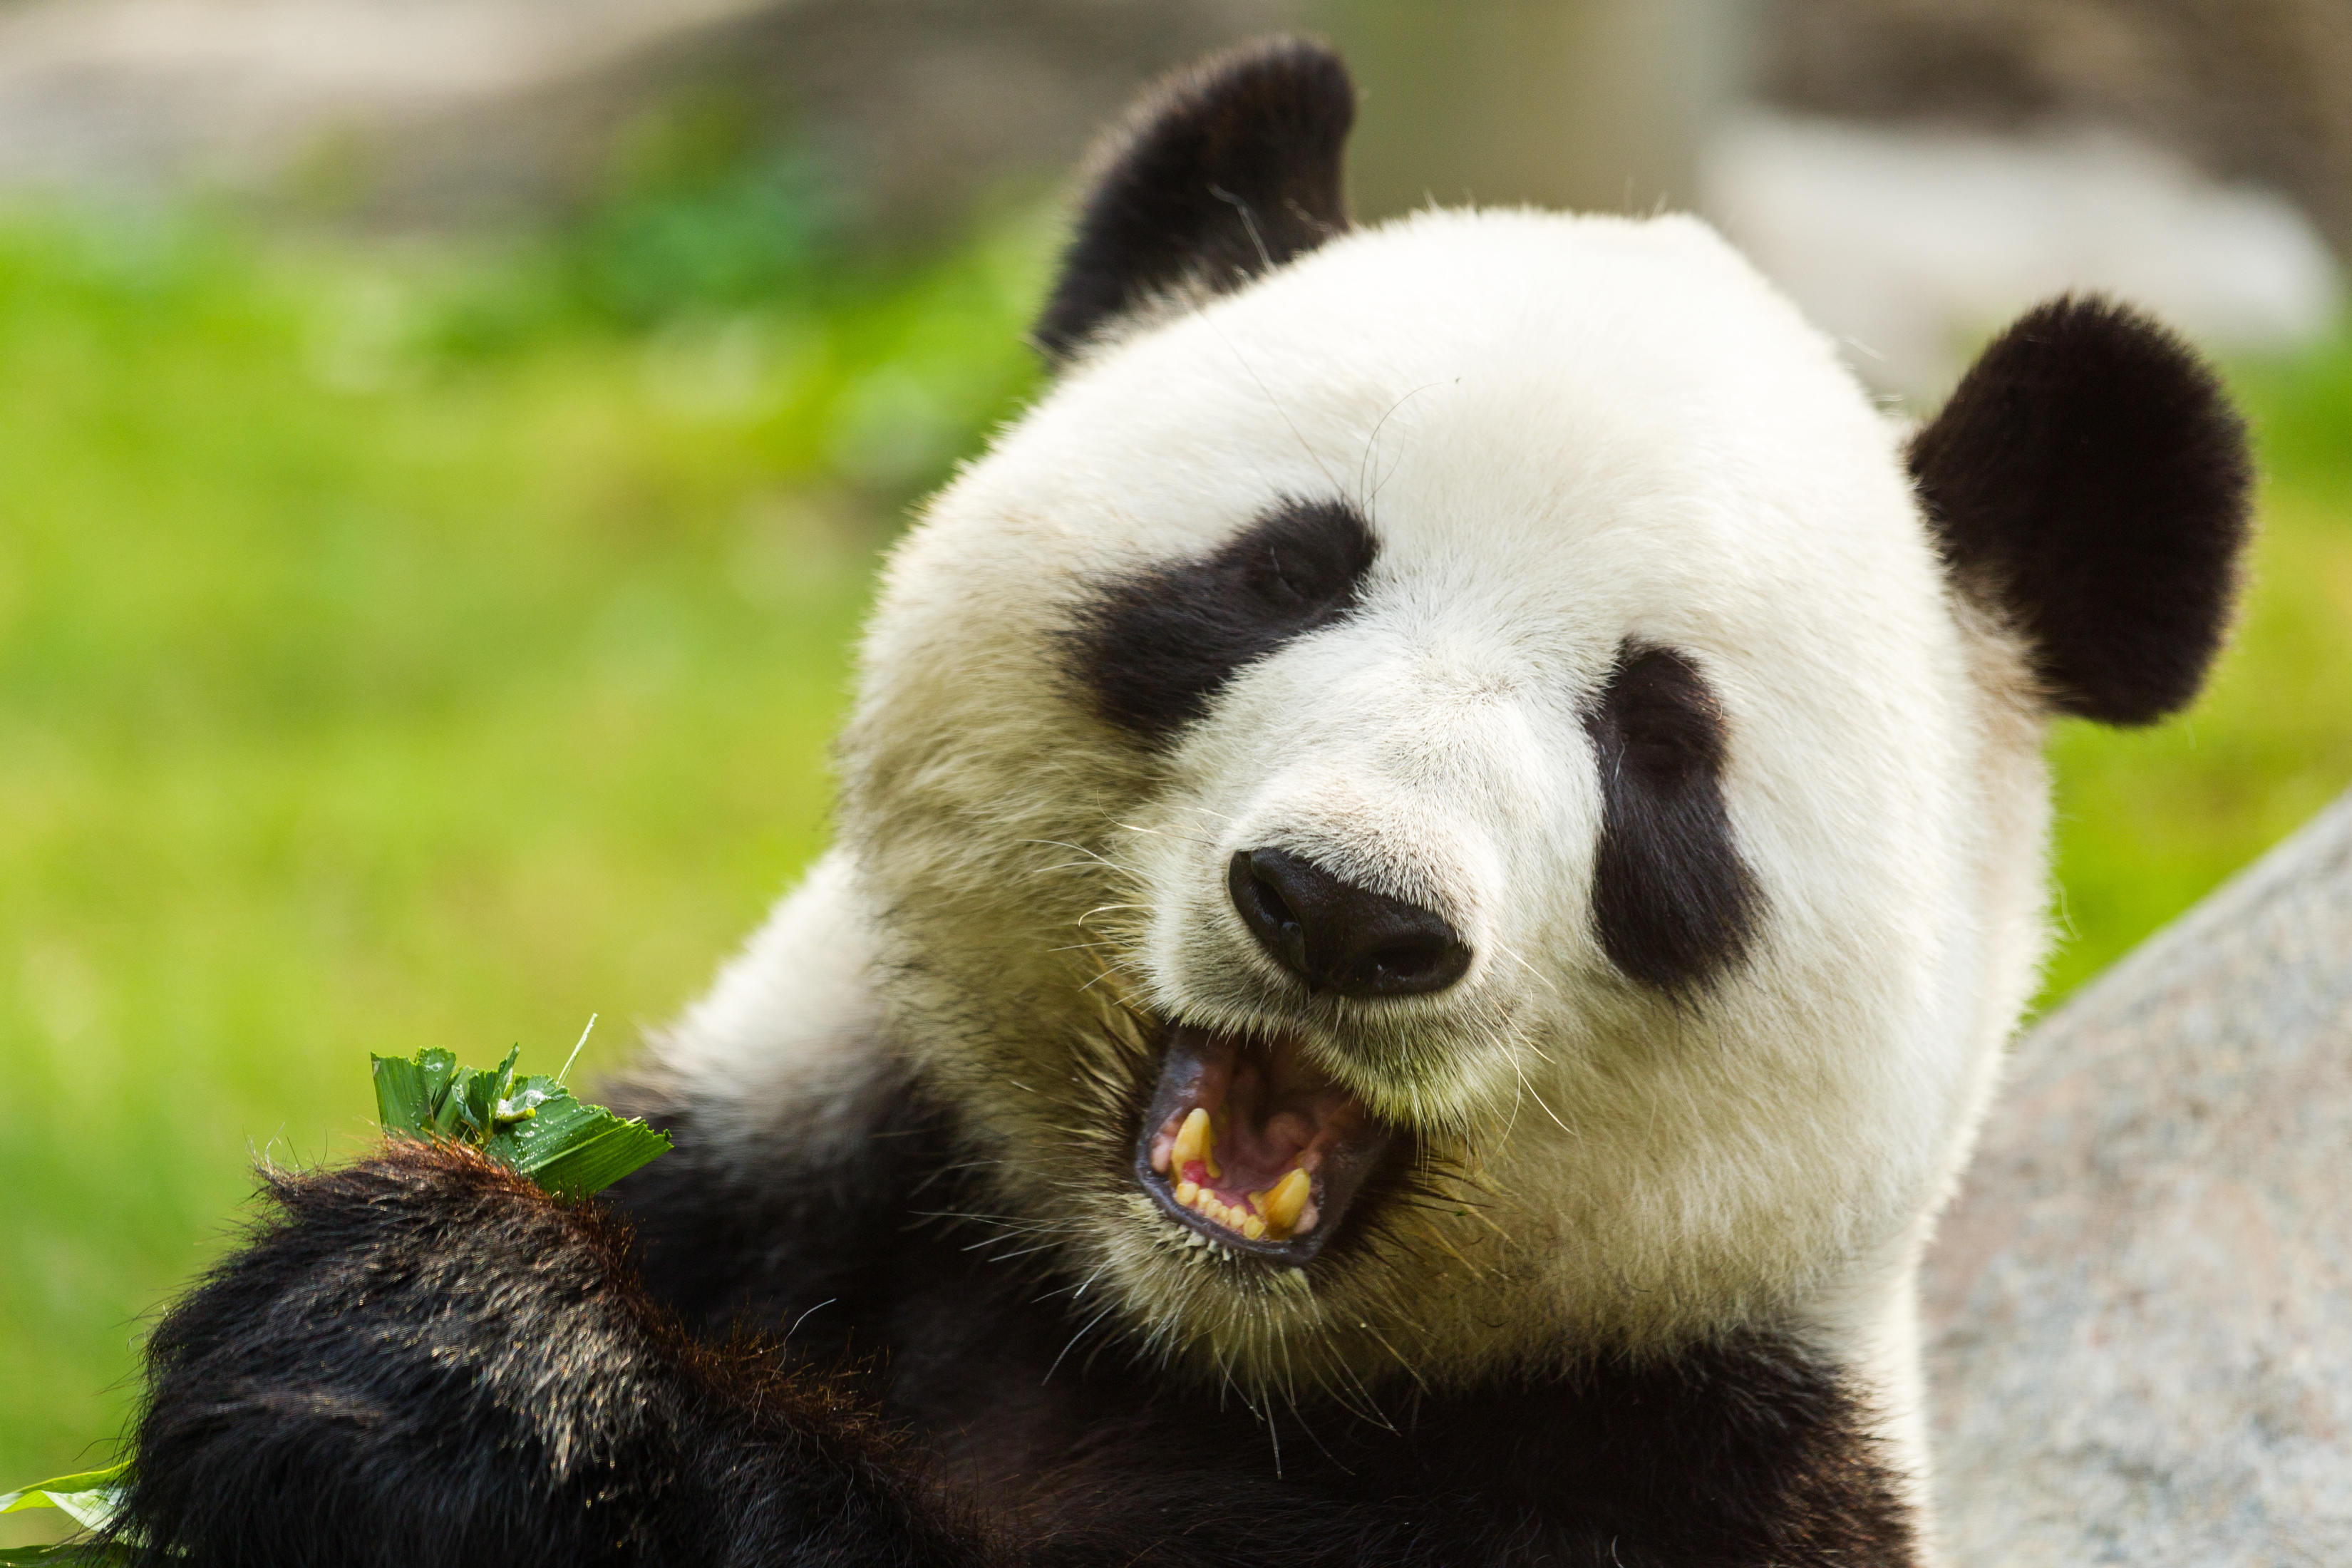panda: (189, 51, 2221, 1521)
